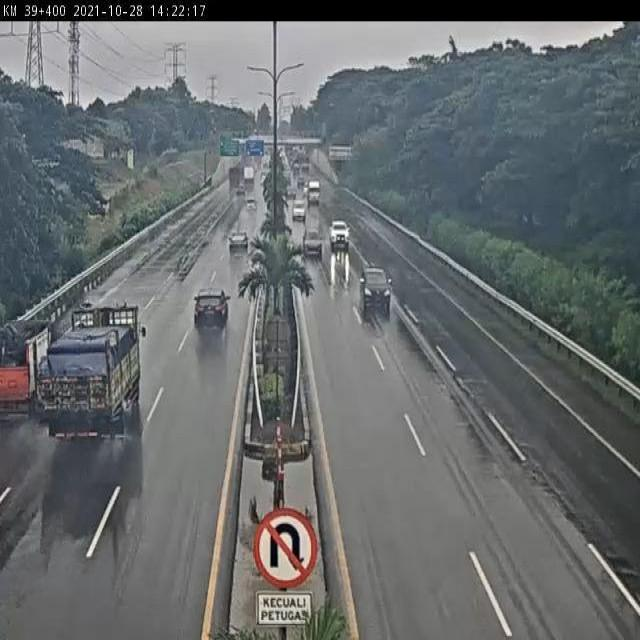car: (357, 264, 395, 313), (191, 287, 231, 333), (328, 218, 352, 250), (300, 226, 324, 258), (229, 232, 246, 256)
truck-l-: (40, 301, 140, 440)
truck-s-: (0, 327, 55, 417)
